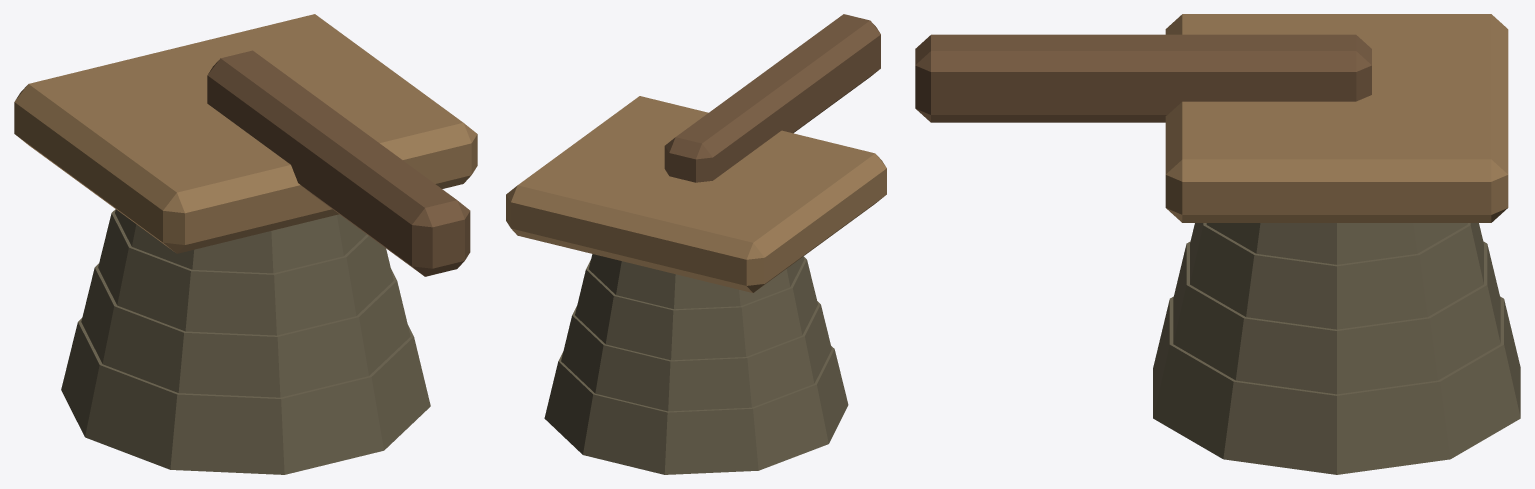
File: bellows.glb
3 views of the same model, side by side, from view 1: azimuth 30°, elevation 25°; view 2: azimuth 150°, elevation 25°; view 3: azimuth 270°, elevation 25° (orthographic). The views are drawn at different scales.
Parts seen in each view (by area): view 1: Timber, Fabric; view 2: Timber, Fabric; view 3: Timber, Fabric.
Boxes of the visible parts, x1,y1,x2,y2 form: Timber: (14,14,477,276); Fabric: (61,209,430,474); Timber: (506,14,886,292); Fabric: (544,254,848,474); Timber: (915,14,1508,222); Fabric: (1153,223,1520,474).
Size of the model in its own units: 0.3608 by 0.3608 by 0.5652.
